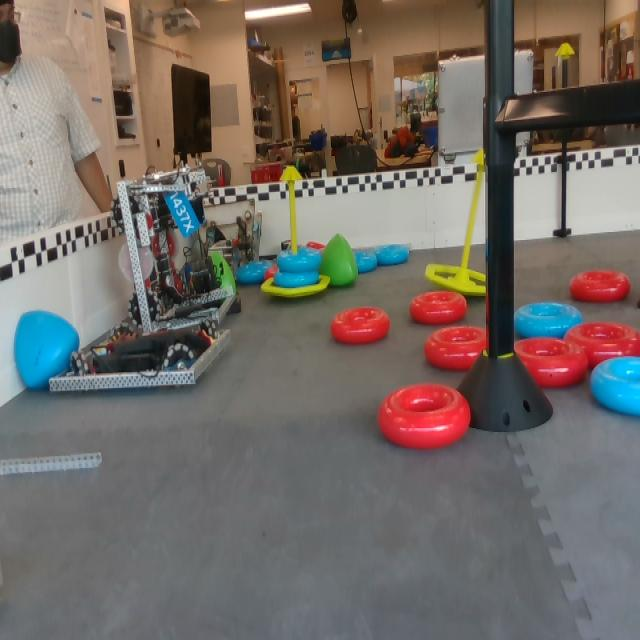Blue-Ring: (589, 356, 639, 418), (516, 302, 584, 339), (274, 247, 325, 272), (235, 258, 273, 287), (376, 244, 417, 268), (278, 270, 320, 287), (353, 252, 379, 276)
Mobile-Goal: (260, 165, 330, 299), (425, 149, 486, 299)
Red-Ring: (377, 387, 472, 452), (514, 337, 591, 388), (566, 322, 639, 368), (424, 327, 486, 371), (330, 308, 390, 347), (409, 291, 468, 327), (569, 272, 631, 305)
Yellow-Stake-Head: (280, 166, 302, 182), (556, 43, 576, 57), (472, 149, 484, 165)
